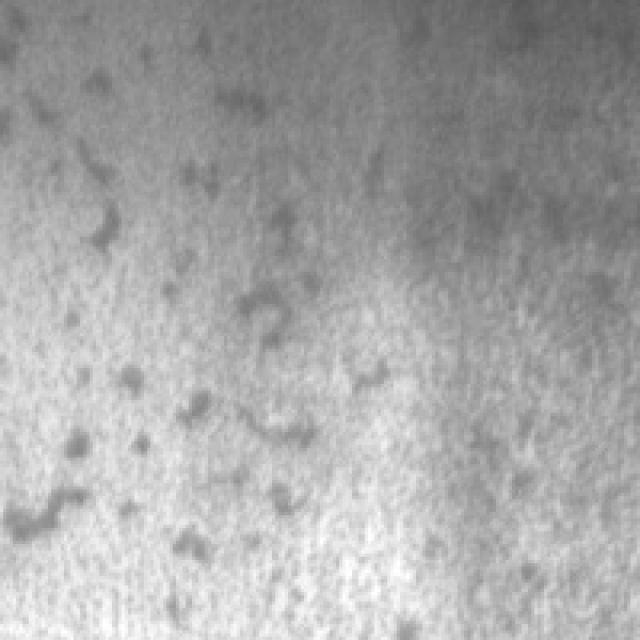pitted_surface: (163, 71, 589, 634), (0, 45, 259, 624)
